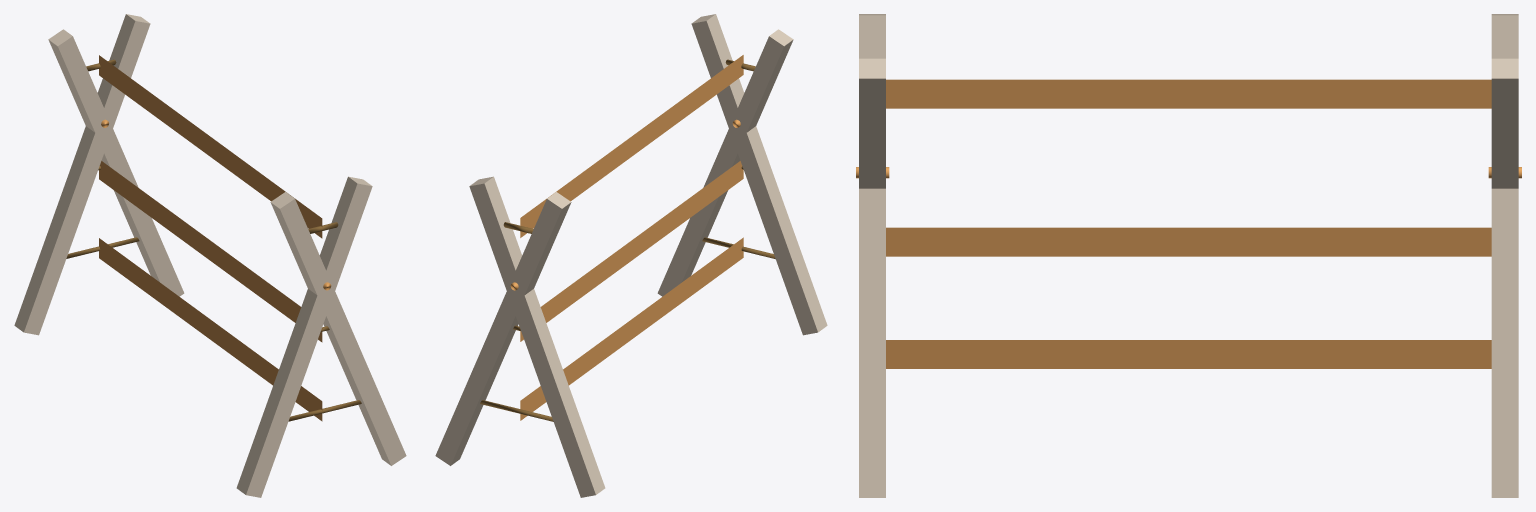
File: OrangeBlocker.glb
3 renders of one model, left to right at view 1: azimuth 30°, elevation 25°; view 2: azimuth 150°, elevation 25°; view 3: azimuth 270°, elevation 25°, orthographic. The views are drawn at different scales.
Parts seen in each view (by area): view 1: OrangeBlocker; view 2: OrangeBlocker; view 3: OrangeBlocker.
Part boxes in pixels (x1,y1,x2,y2): OrangeBlocker: [14, 14, 406, 497]; OrangeBlocker: [435, 14, 827, 497]; OrangeBlocker: [856, 14, 1521, 497].
Bounding box in the file's own units: 0.9531 × 1.65 × 2.4.
